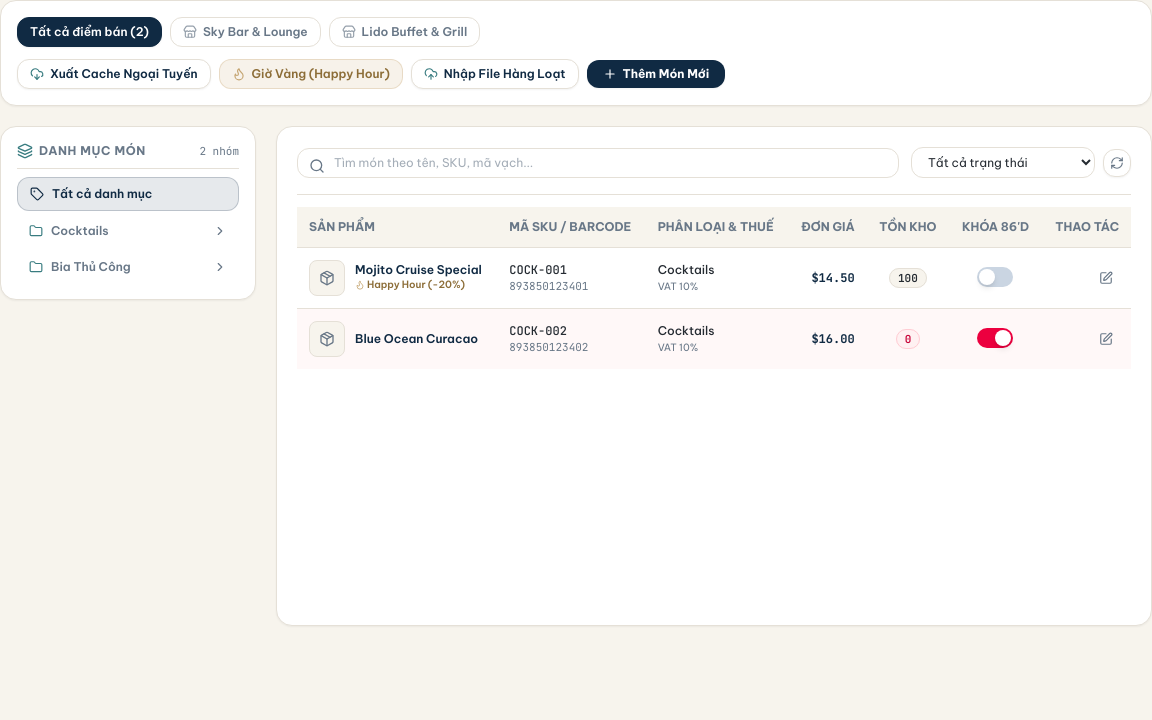
Test: PosCatalogManagement Component Tests (KAN-396) › opens Happy Hour and Bulk Import modals
Expected: the text "Mojito Cruise Special" is shown, [355,262,482,278]
Click the button "Giờ Vàng (Happy Hour)": (311, 74) [219,59,403,89]
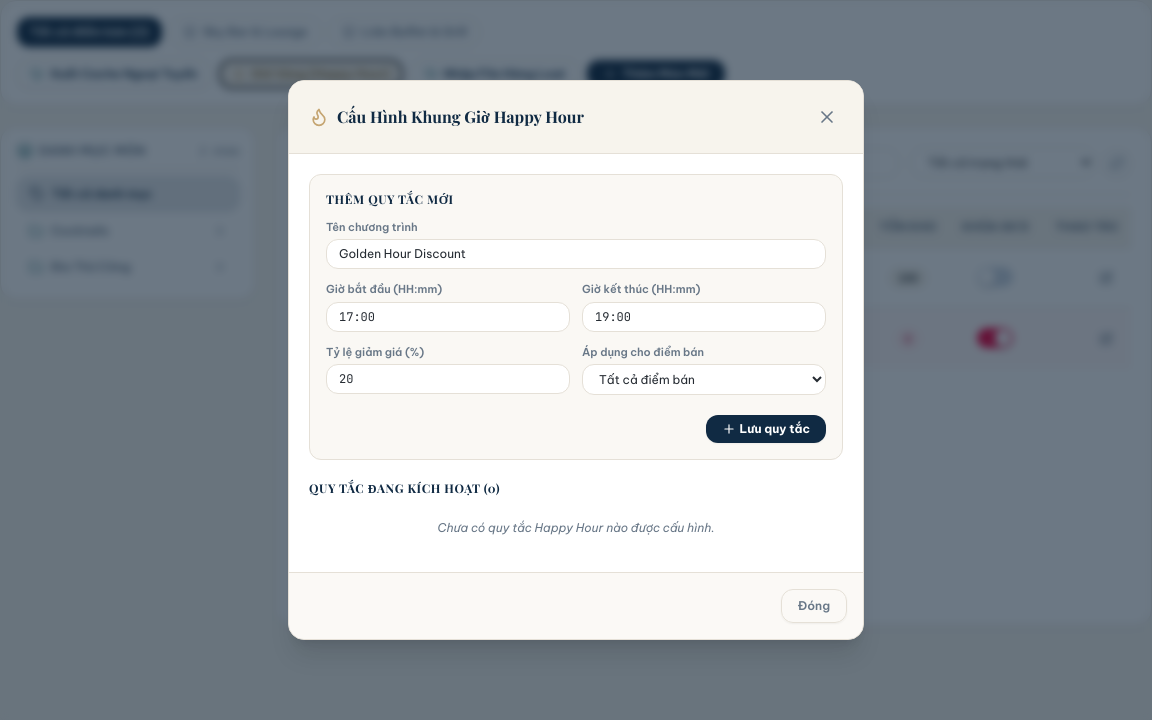
Now the heading "Cấu Hình Khung Giờ Happy Hour" is shown, box [337,105,584,129]
Click the button named "Đóng cửa sổ": (827, 117) [811,101,843,133]
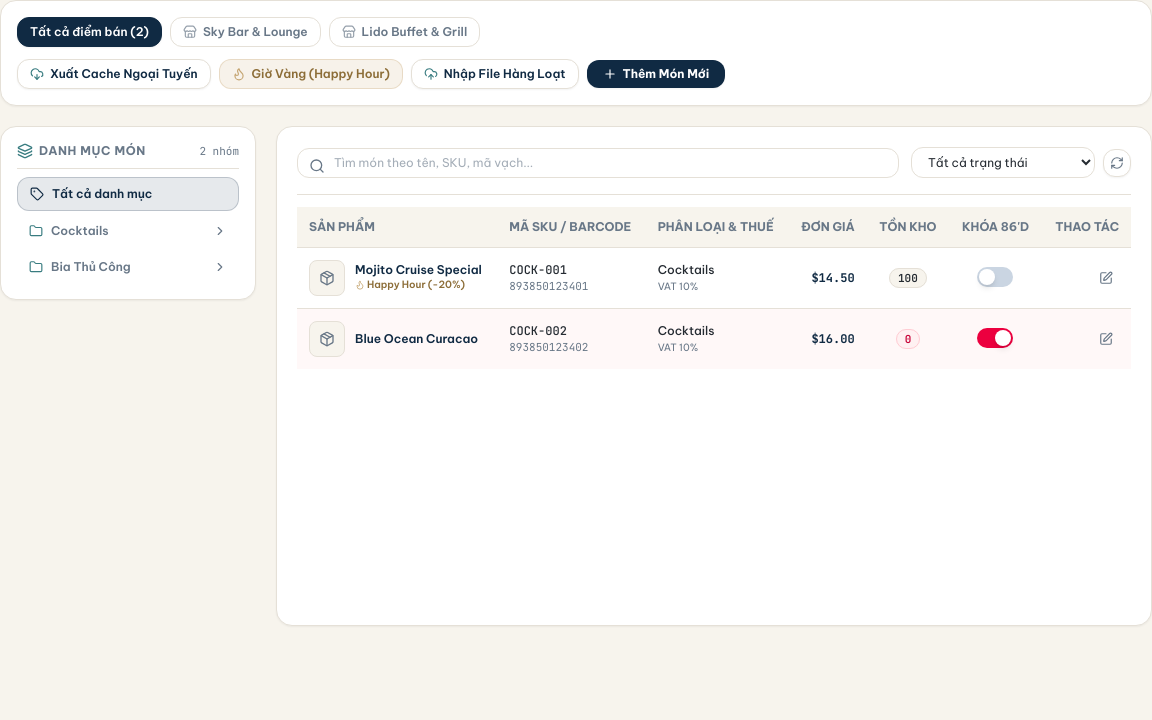
Click the button "Nhập File Hàng Loạt": (495, 74) [411,59,579,89]
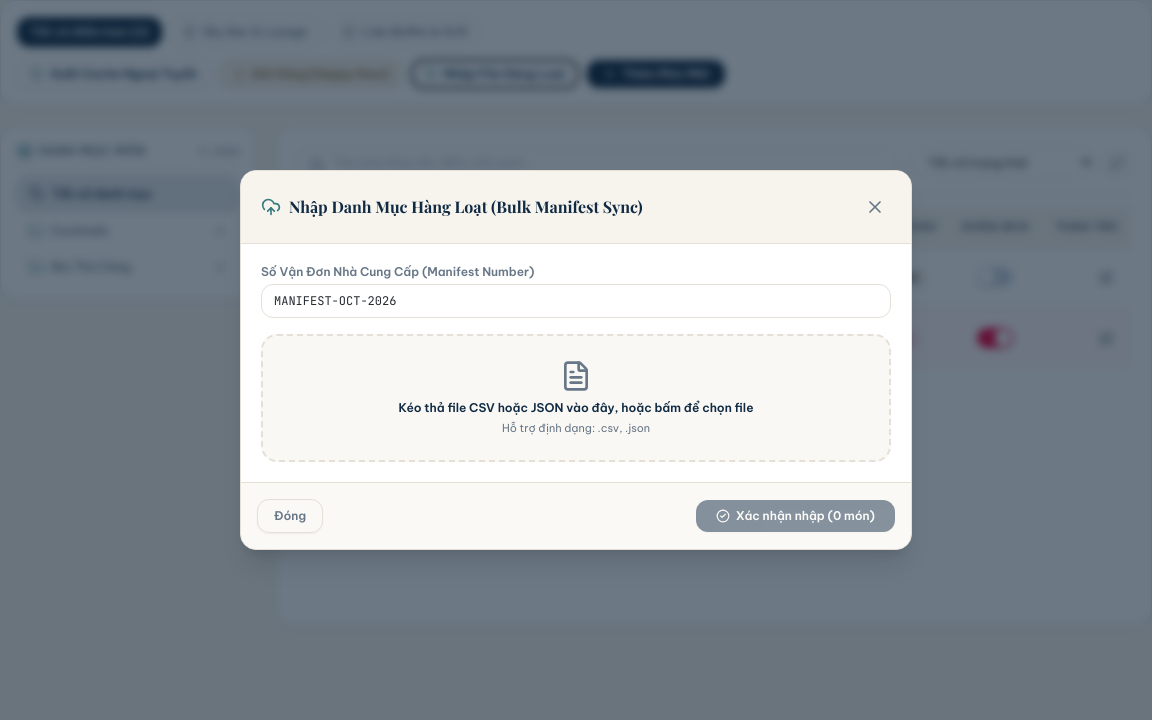
Now the heading "Nhập Danh Mục Hàng Loạt (Bulk Manifest Sync)" is shown, box [289,195,643,219]
